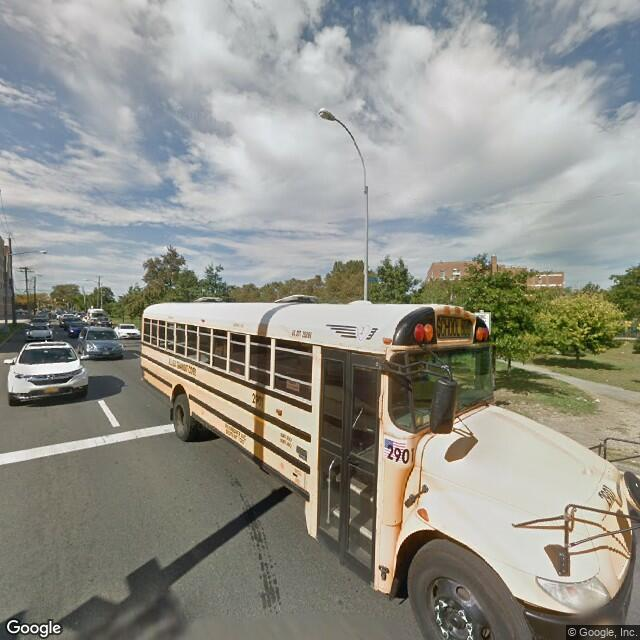litter: (575, 395, 588, 404), (592, 397, 601, 402)
